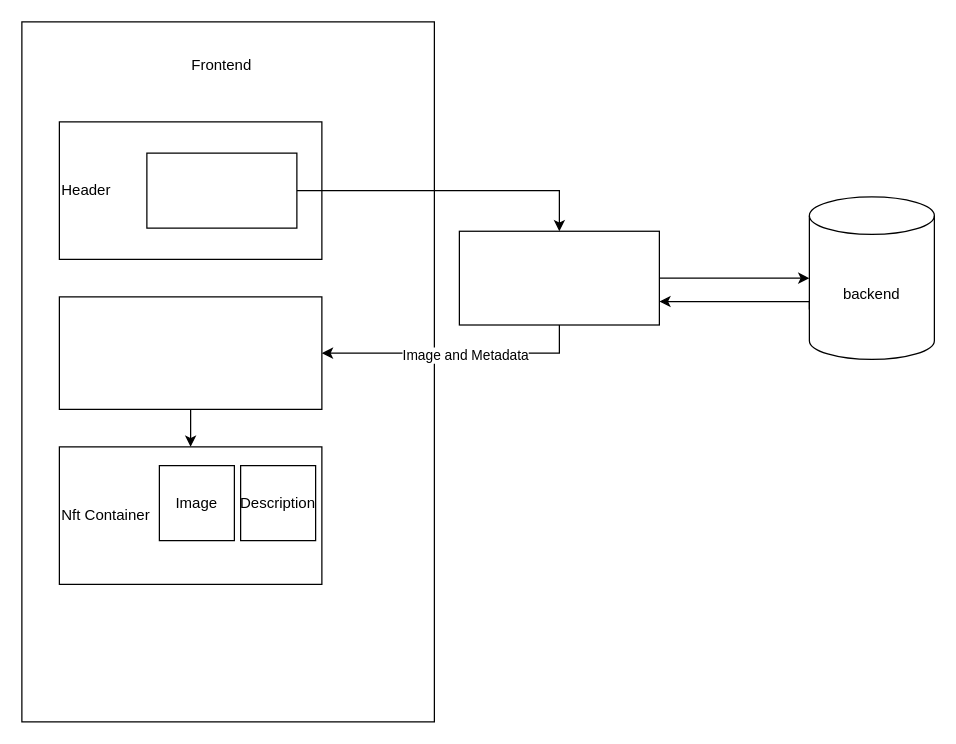
The diagram is 956 pixels wide and 744 high, and some of its shapes have lost their labels. Each missing label, with the centre of its shape:
ApiService.ts Get Nft by URI: the point at 558,277
Redux Store: the point at 190,352
Searchbar: the point at 221,190
